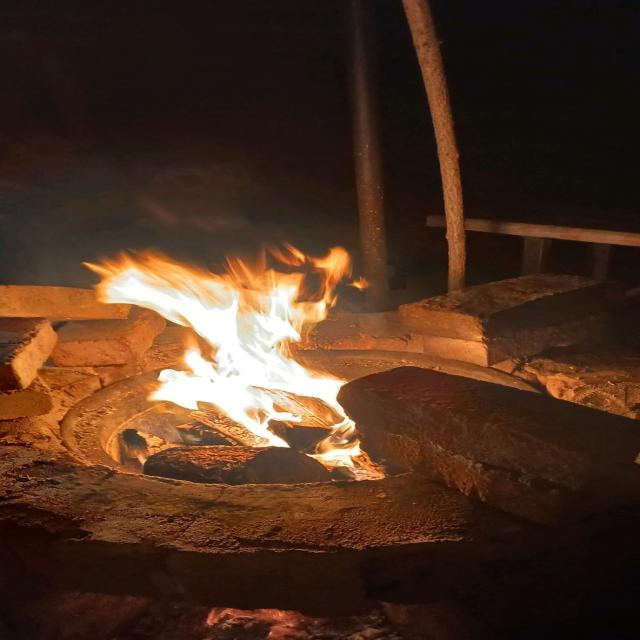fire: (84, 246, 368, 467)
